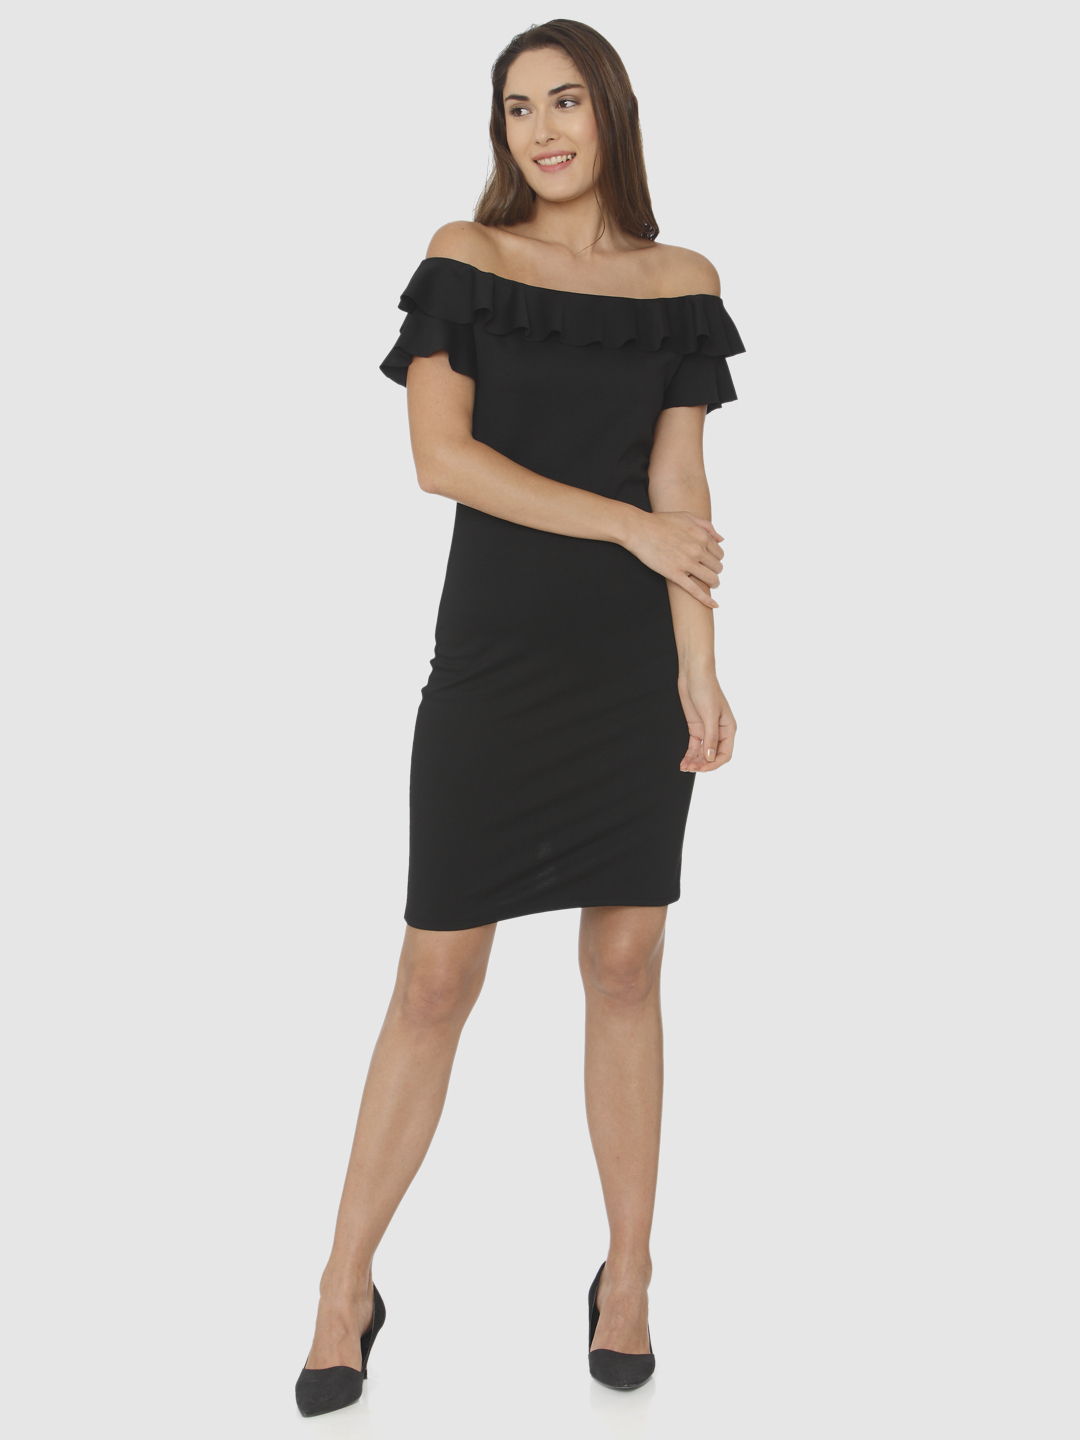S_dress: (368, 254, 803, 940)
